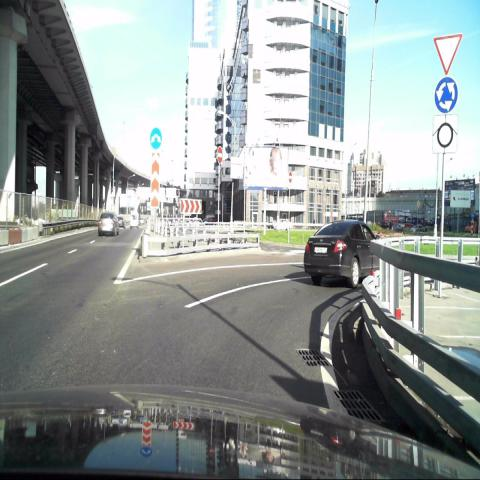2_4: (431, 32, 463, 75)
3_1: (215, 147, 224, 163)
4_2_3: (149, 127, 163, 149)
4_3: (433, 74, 459, 117)
8_13_1: (432, 116, 458, 153)
